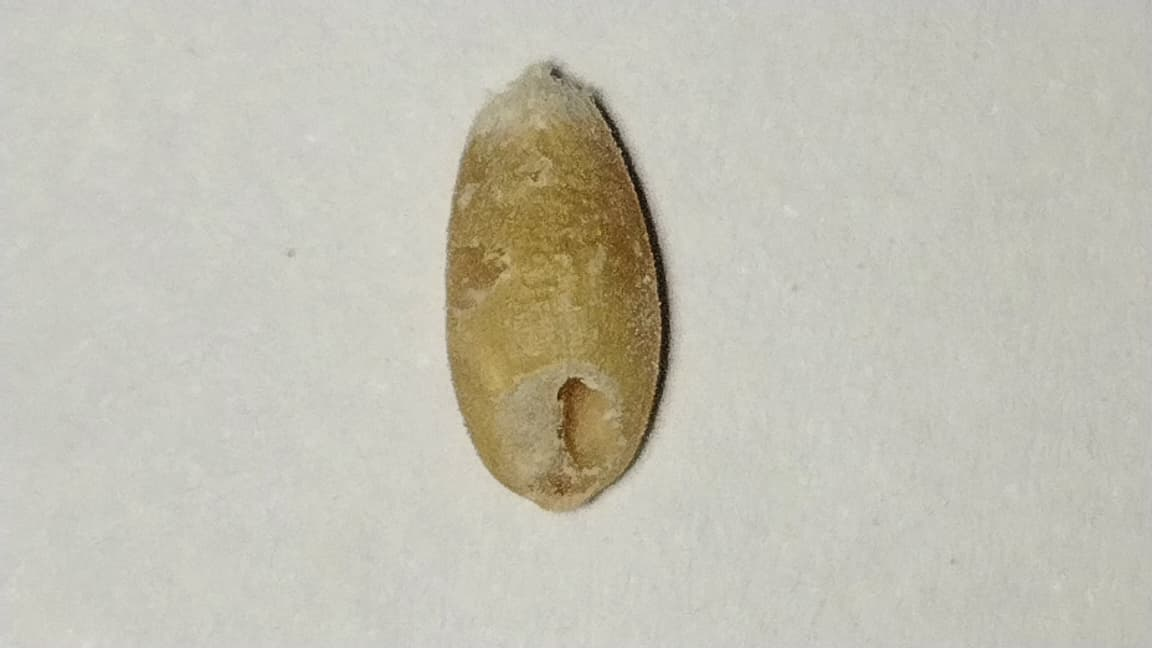damage: (448, 88, 659, 507)
insectdamage: (495, 360, 630, 497), (428, 222, 527, 313)
